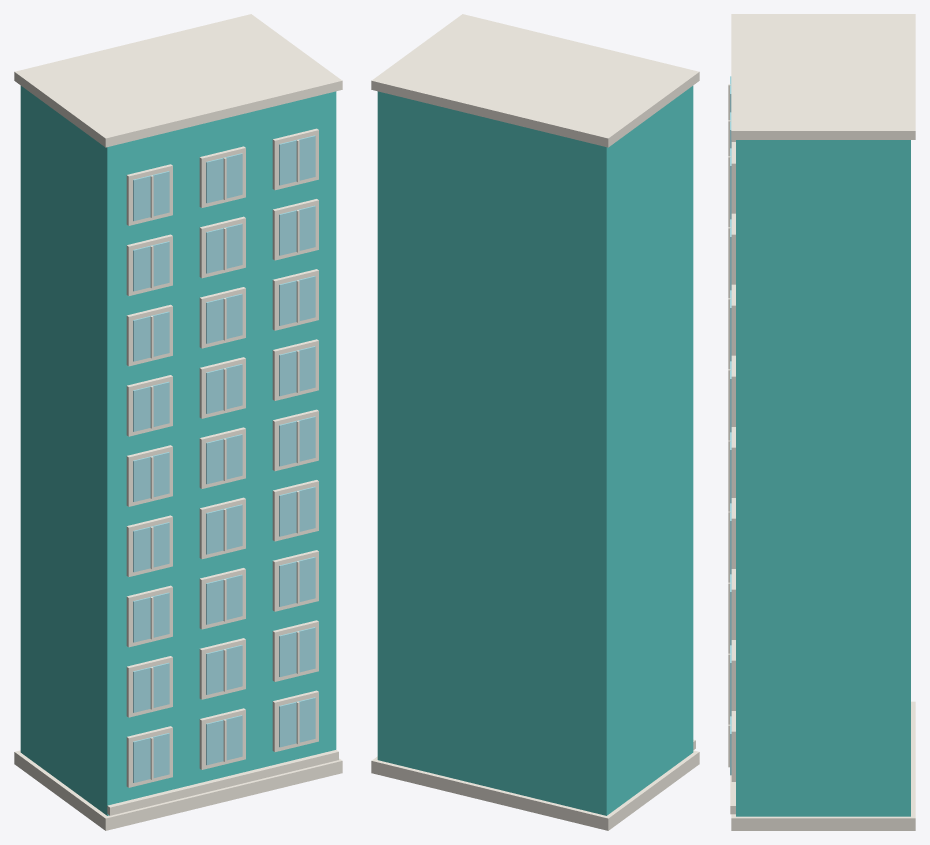
Rendered from 11_skyline_b.glb.
3 views of the same model, side by side, from view 1: azimuth 30°, elevation 25°; view 2: azimuth 150°, elevation 25°; view 3: azimuth 270°, elevation 25° (orthographic).
Parts seen in each view (by area): view 1: 11_skyline_b; view 2: 11_skyline_b; view 3: 11_skyline_b.
Part boxes in pixels (x1,y1,x2,y2): 11_skyline_b: [14, 14, 342, 830]; 11_skyline_b: [371, 14, 699, 830]; 11_skyline_b: [728, 14, 915, 830].
Size of the model in its own units: 6 by 16.76 by 4.07.
